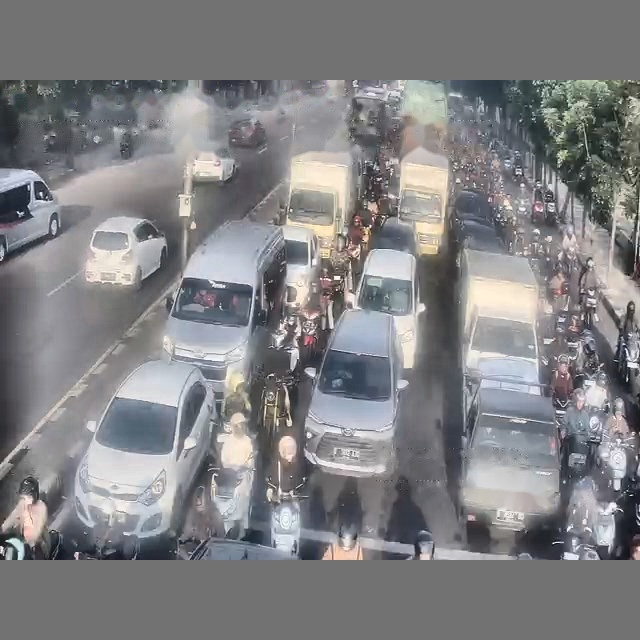Mobil: (74, 360, 215, 538), (304, 309, 408, 476), (460, 384, 560, 530), (353, 249, 424, 370), (84, 216, 167, 288), (0, 169, 61, 262), (282, 225, 320, 306), (178, 538, 298, 560), (478, 356, 542, 395), (454, 220, 506, 253), (371, 217, 416, 255), (192, 146, 237, 182), (228, 117, 266, 147), (454, 189, 490, 220), (254, 100, 286, 123)
Motor: (209, 467, 254, 538), (270, 483, 303, 555), (597, 433, 635, 492), (618, 332, 639, 383), (583, 287, 597, 328), (544, 201, 557, 226), (531, 201, 544, 224)
Truk: (458, 249, 540, 382), (285, 151, 357, 258), (398, 147, 449, 254)
